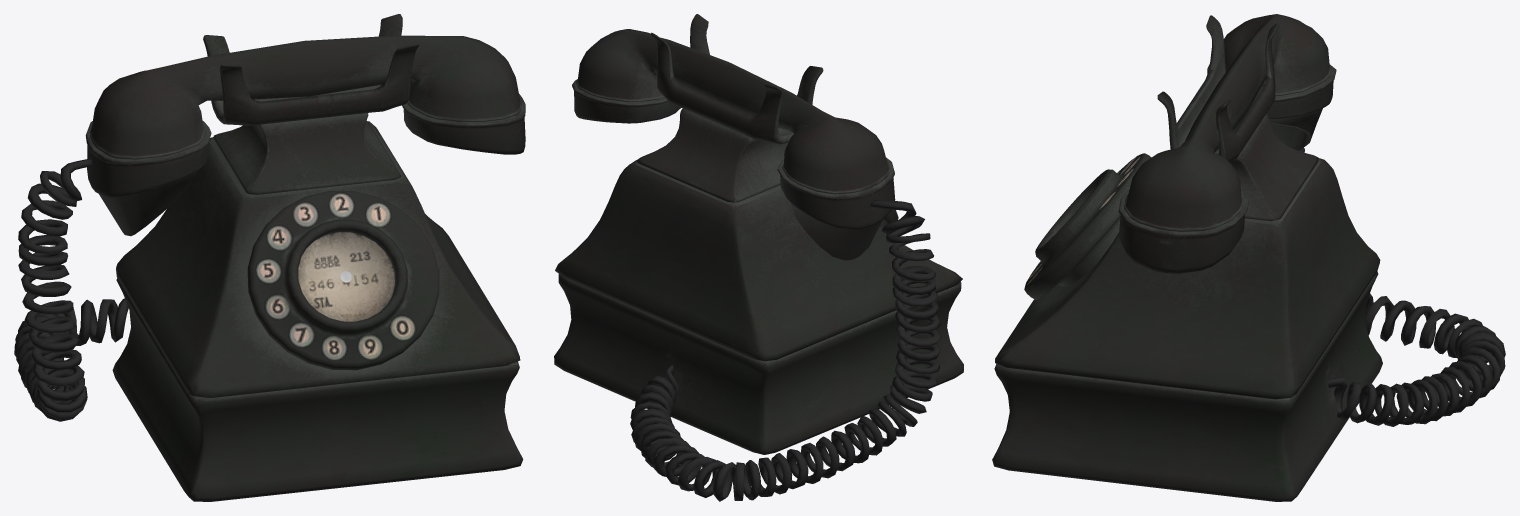
File: telephone.glb
3 views of the same model, side by side, from view 1: azimuth 30°, elevation 25°; view 2: azimuth 150°, elevation 25°; view 3: azimuth 270°, elevation 25° (orthographic). The views are drawn at different scales.
Visible parts, largest first — view 1: Object032_Material #127_0; view 2: Object032_Material #127_0; view 3: Object032_Material #127_0.
Part boxes in pixels (<box>): Object032_Material #127_0: <box>14,14,525,501</box>; Object032_Material #127_0: <box>554,14,963,501</box>; Object032_Material #127_0: <box>992,14,1505,501</box>.
Size of the model in its own units: 11.35 by 9.22 by 11.53.
Materials: 1 (1 with a texture image).
